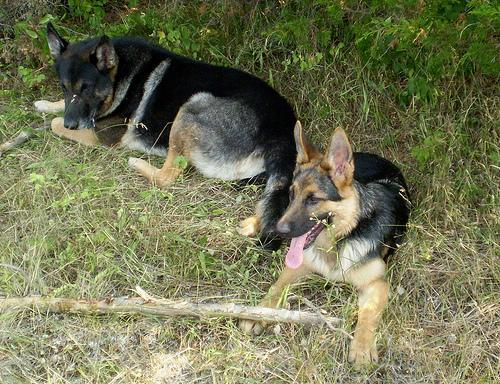German_shepherd: (238, 119, 412, 367)
